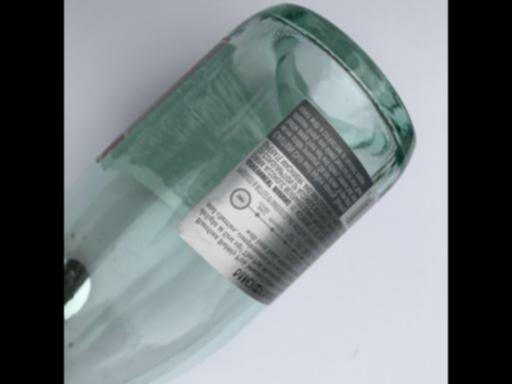alcohol: (65, 2, 418, 384)
glass: (65, 2, 418, 384)
sodocalcique: (65, 2, 418, 384)
